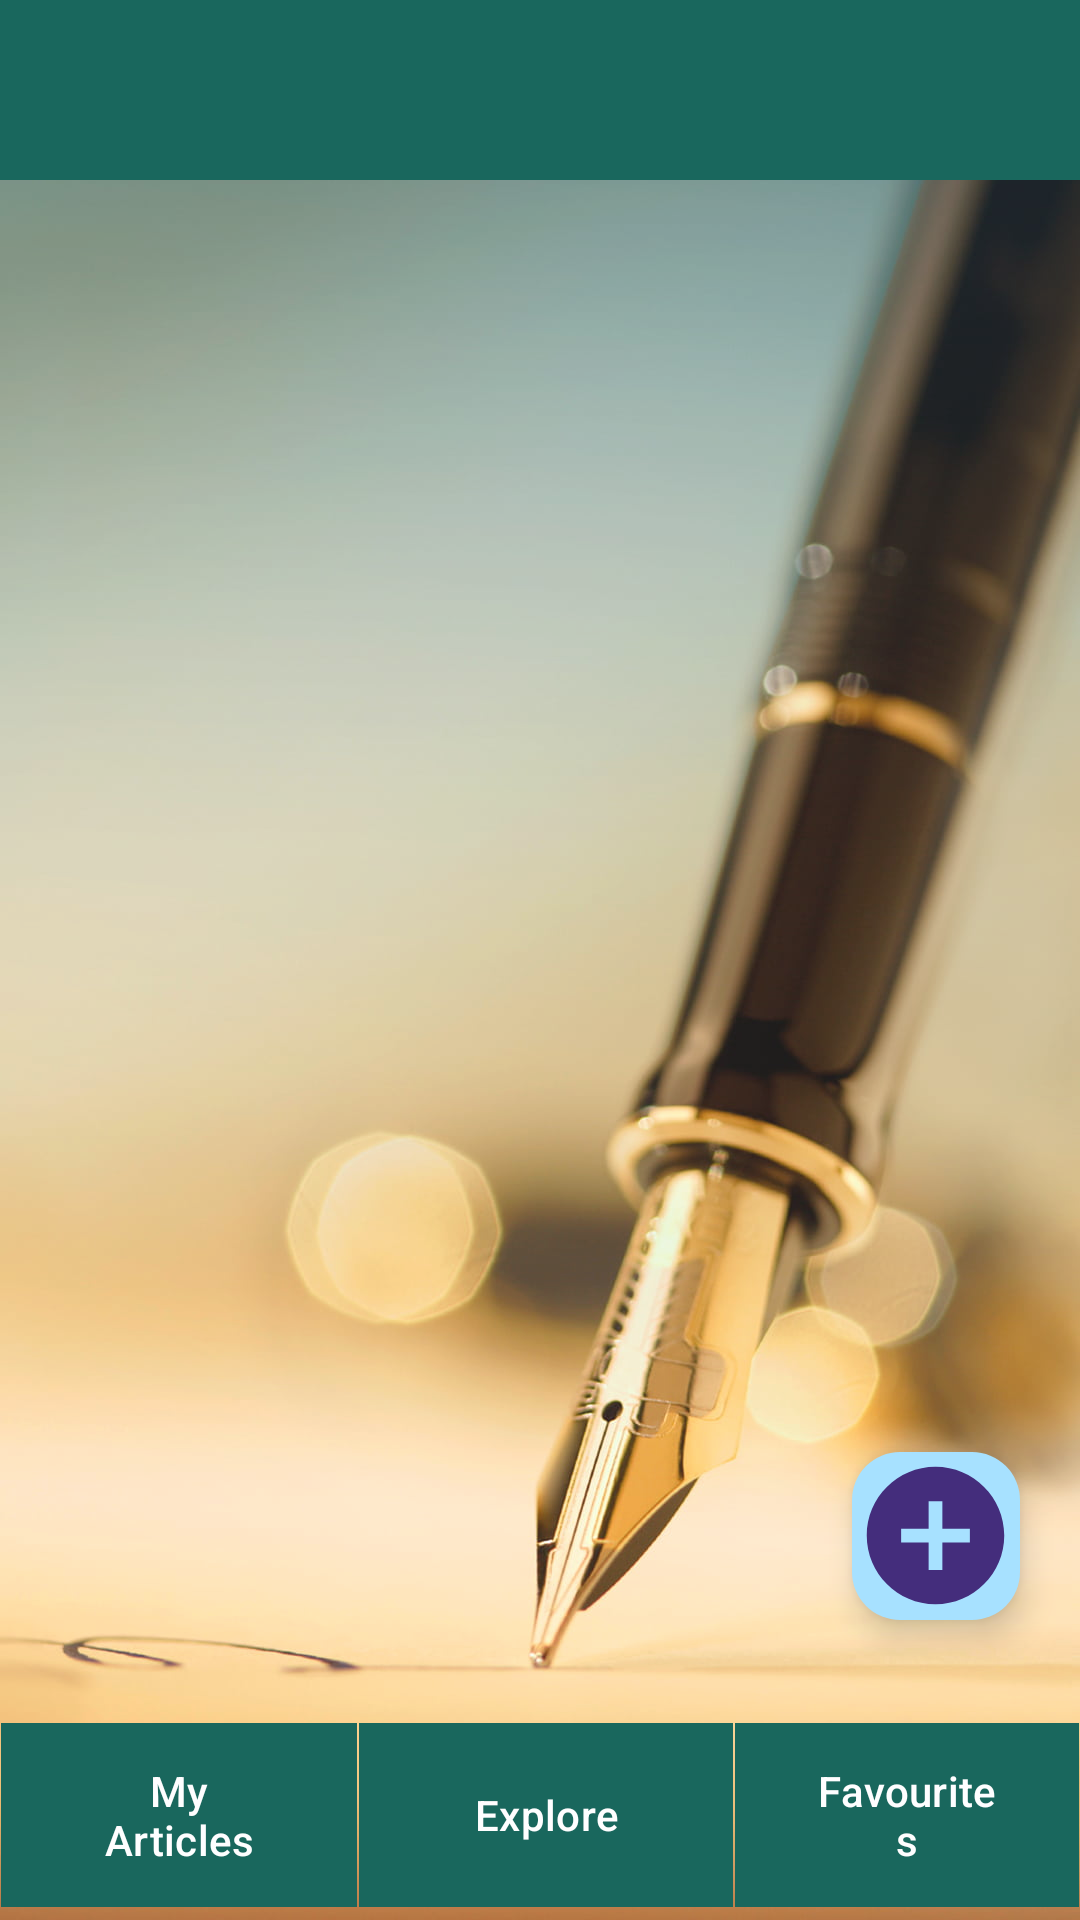

Icons on this 1080px×1920px Android screen, each with the point to tap as (x,y):
add circle: (936,1536)
